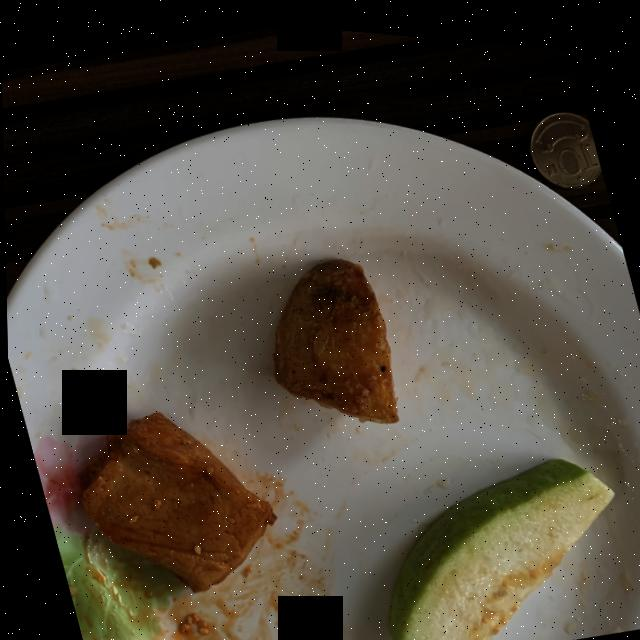coin: (529, 100, 601, 176)
creamy tofu: (79, 408, 272, 587)
fried potato: (271, 252, 396, 415)
guava -sliced-: (386, 447, 611, 640)
